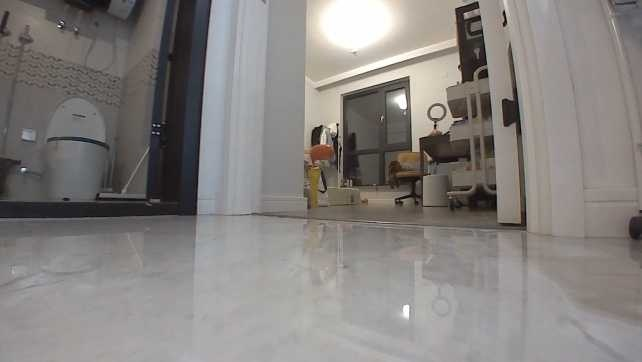door_sill: (260, 200, 534, 239)
toilet: (38, 93, 110, 200)
